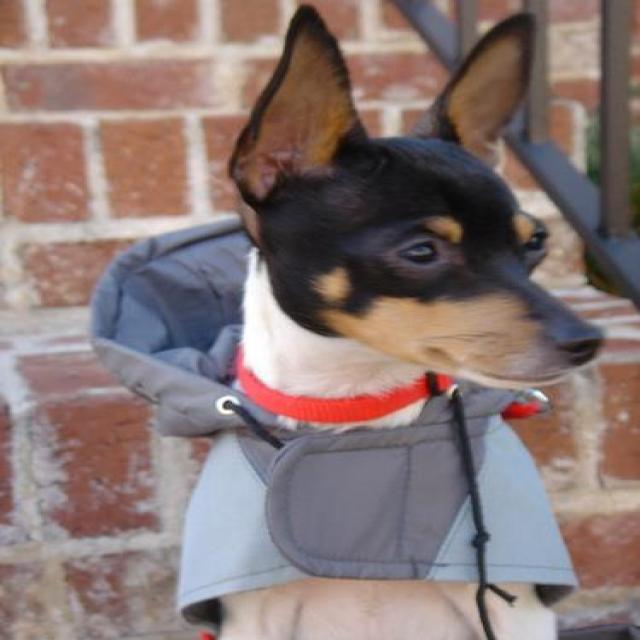toy_terrier: (213, 0, 607, 637)
